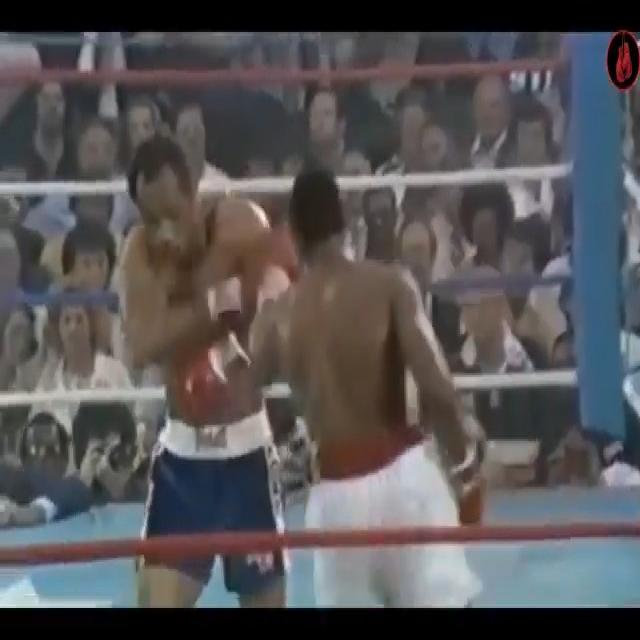Jab: (149, 244, 315, 442)
